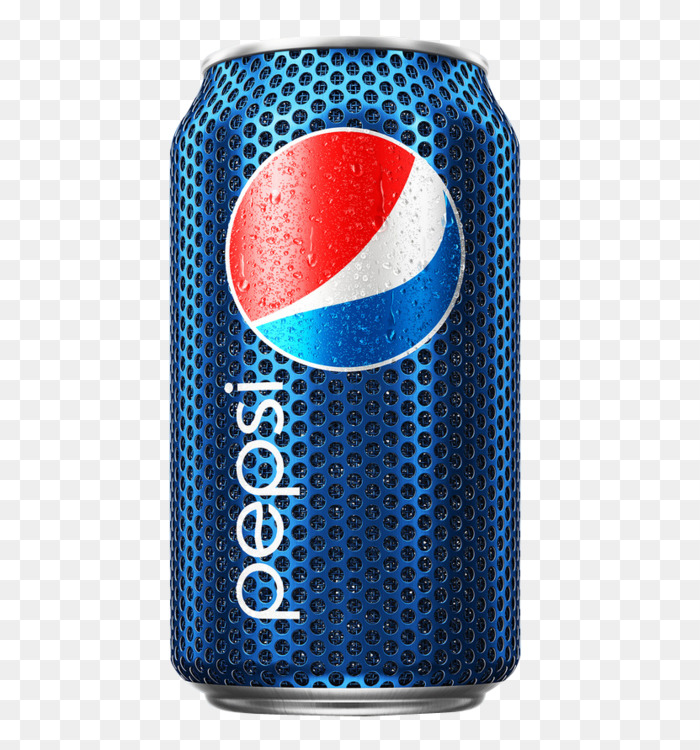pepsi: (225, 127, 469, 369), (225, 128, 469, 369), (225, 134, 469, 369)
